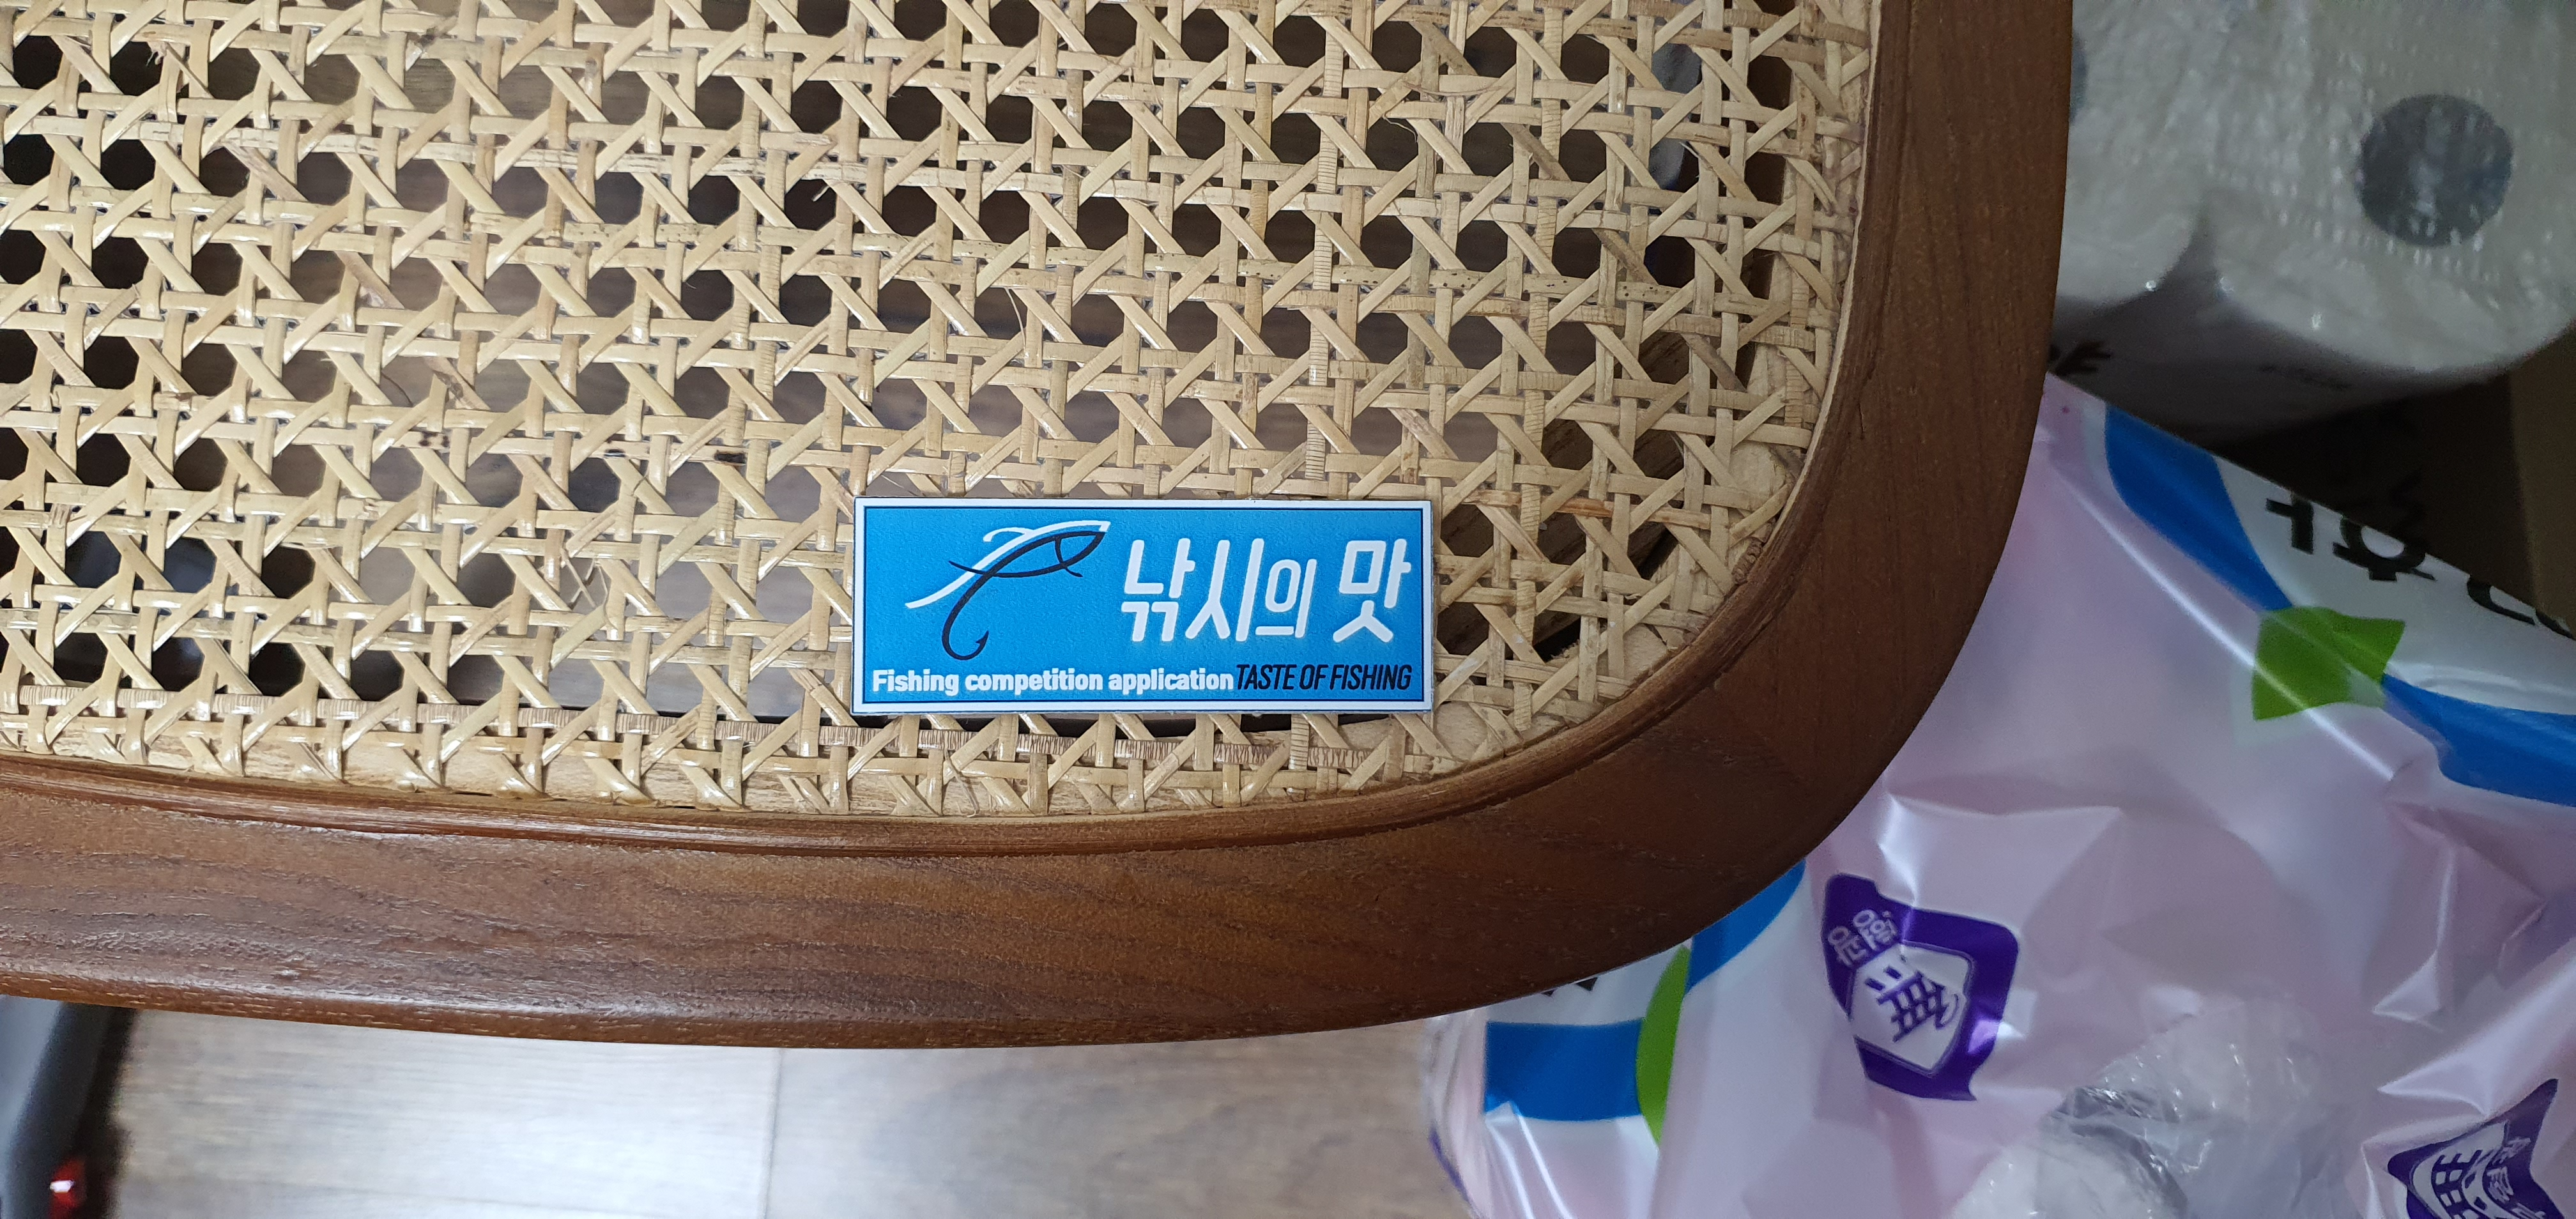tag: (856, 495, 1434, 710)
